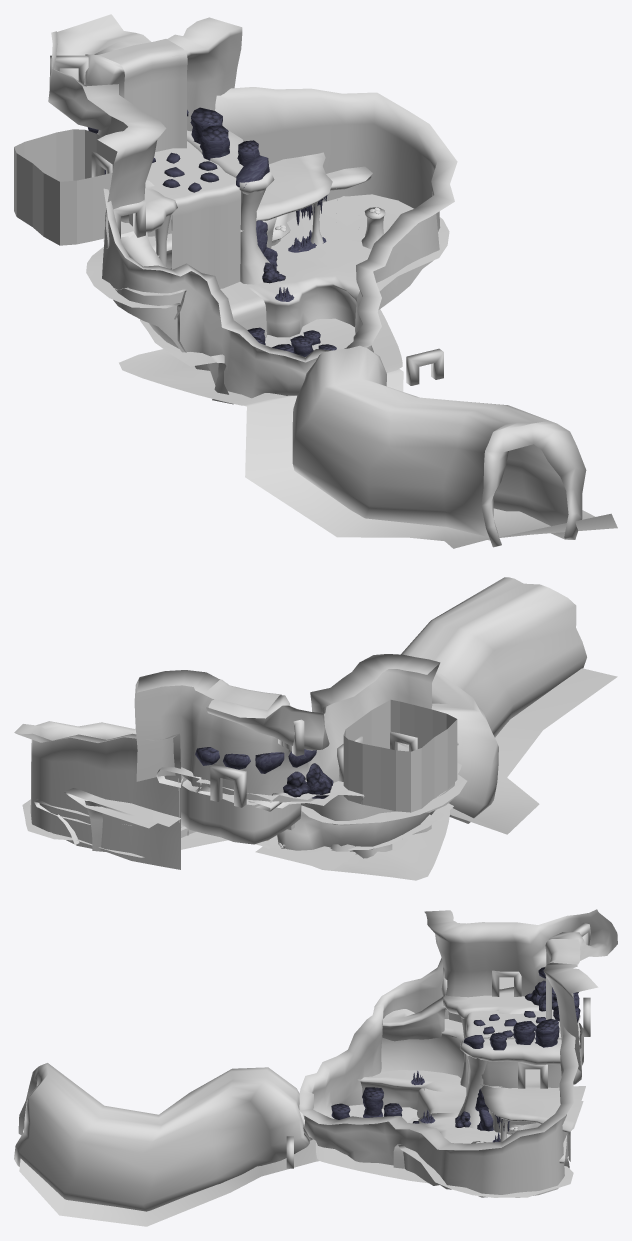
Rendered from Cave.fbx.
3 renders of one model, top to bottom at view 1: azimuth 30°, elevation 25°; view 2: azimuth 150°, elevation 25°; view 3: azimuth 270°, elevation 25°, orthographic. The views are drawn at different scales.
Parts seen in each view (by area): view 1: Plane, Plane.001, WaterFalls, Plane.052, Plane.035, Plane.050, Plane.051, Cube.011; view 2: Plane, Plane.001, Plane.052, Plane.035, Plane.050, WaterFalls, WaterFallEnd, Cube.014, Plane.028, Cube.013, Plane.051; view 3: Plane, Plane.001, WaterFalls, Plane.050, Plane.035, Cube.003, Cube.012, Cube.011.
Part boxes in pixels (box(x1,y1,x2,y2)): Plane: box(48, 14, 457, 404); Plane.001: box(243, 345, 617, 548); WaterFalls: box(99, 39, 266, 337); Plane.052: box(14, 129, 134, 245); Plane.035: box(119, 309, 402, 405); Plane.050: box(256, 152, 332, 248); Plane.051: box(271, 166, 372, 246); Cube.011: box(200, 125, 229, 160); Plane: box(14, 654, 467, 869); Plane.001: box(397, 577, 617, 834); Plane.052: box(343, 699, 457, 812); Plane.035: box(255, 810, 449, 880); Plane.050: box(64, 787, 200, 851); WaterFalls: box(196, 679, 357, 854); WaterFallEnd: box(255, 846, 356, 870); Cube.014: box(306, 763, 333, 798); Plane.028: box(255, 752, 284, 773); Cube.013: box(283, 771, 308, 797); Plane.051: box(33, 799, 188, 845); Plane: box(286, 909, 617, 1197); Plane.001: box(14, 1063, 319, 1226); WaterFalls: box(417, 939, 580, 1118); Plane.050: box(480, 1085, 585, 1161); Plane.035: box(316, 1104, 428, 1183); Cube.003: box(362, 1087, 383, 1117); Cube.012: box(535, 1019, 559, 1047); Cube.011: box(513, 1021, 535, 1044).
Bounding box in the file's own units: 10109 × 7202 × 16415.
